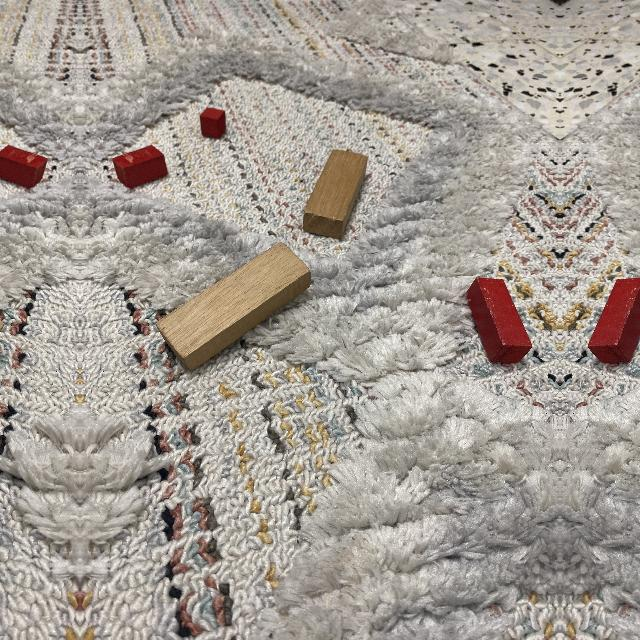jenga: (156, 243, 311, 372), (301, 150, 369, 242)
red block: (466, 277, 532, 363), (588, 278, 640, 363), (113, 145, 167, 190), (0, 145, 47, 190), (200, 108, 226, 139)
